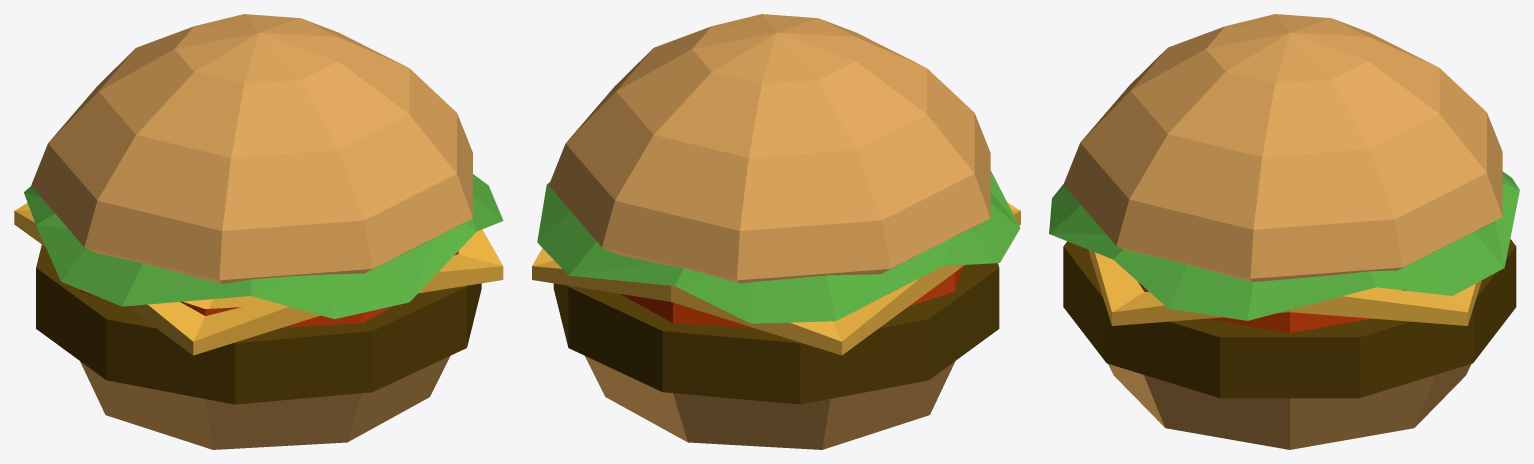
Rendered from hamburger-060fd6d-fixed.glb.
3 renders of one model, left to right at view 1: azimuth 30°, elevation 25°; view 2: azimuth 150°, elevation 25°; view 3: azimuth 270°, elevation 25°, orthographic.
Parts seen in each view (by area): view 1: part0, part1, part4, part3, part2; view 2: part0, part1, part4, part3, part2; view 3: part0, part1, part4, part3, part2.
Boxes of the visible parts, x1,y1,x2,y2 form: part0: (31,14,472,449); part1: (36,245,481,404); part4: (24,174,503,319); part3: (14,203,503,355); part2: (79,251,458,327); part0: (549,14,990,449); part1: (553,263,999,404); part4: (537,170,1020,323); part3: (532,203,1020,355); part2: (620,267,962,327); part0: (1063,14,1502,449); part1: (1063,239,1516,398); part4: (1049,171,1519,320); part3: (1088,250,1481,325); part2: (1087,249,1406,332).
Bounding box in the file's own units: 0.1148 × 0.0902 × 0.1123.
